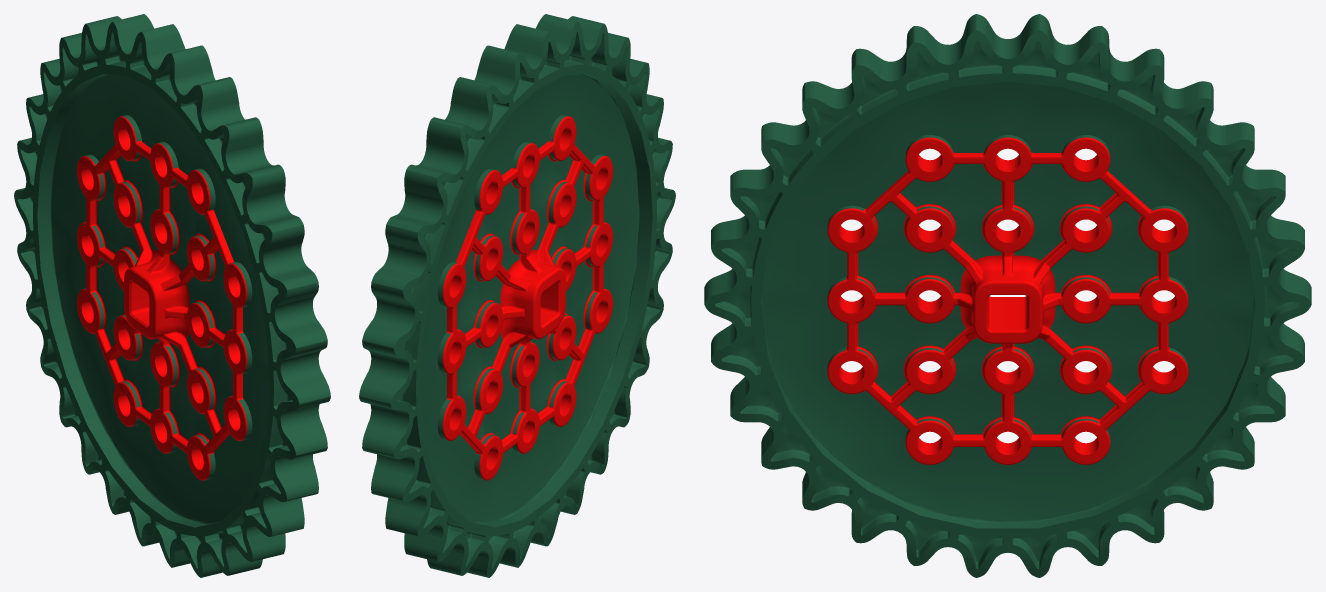
The model's file is 30T High Strength Sprocket (HS Bore) (276-3880).glb.
The picture shows the model from 3 angles, left to right: view 1: azimuth 30°, elevation 25°; view 2: azimuth 150°, elevation 25°; view 3: azimuth 270°, elevation 25°; orthographic projection. The views are drawn at different scales.
Visible parts, largest first — view 1: 276-2252-007 Rev2; view 2: 276-2252-007 Rev2; view 3: 276-2252-007 Rev2.
Part boxes in pixels (x1,y1,x2,y2): 276-2252-007 Rev2: (14, 14, 330, 577); 276-2252-007 Rev2: (359, 14, 675, 577); 276-2252-007 Rev2: (704, 14, 1311, 577).
Size of the model in its own units: 0.0133 by 0.0983 by 0.0988.
